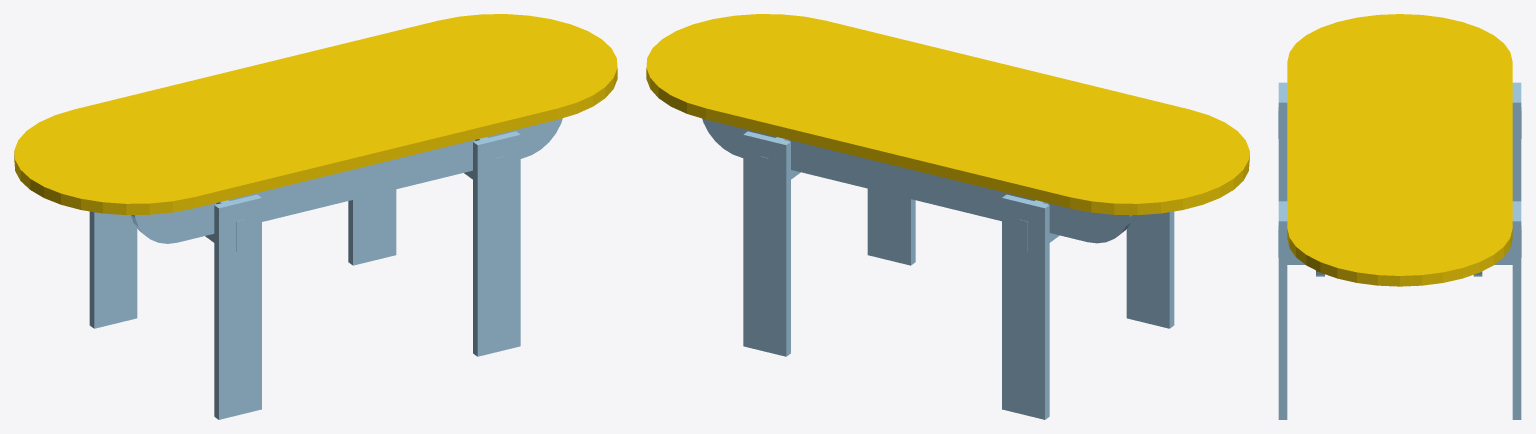
File: alzatin_Coffee-table-pill-design.glb
The picture shows the model from 3 angles, left to right: view 1: azimuth 30°, elevation 25°; view 2: azimuth 150°, elevation 25°; view 3: azimuth 270°, elevation 25°; orthographic projection. The views are drawn at different scales.
Parts seen in each view (by area): view 1: part-0, part-1, part-2, part-12, part-11, part-8, part-10, part-9, part-7, part-6; view 2: part-0, part-1, part-2, part-10, part-9, part-5, part-12, part-11, part-4, part-3; view 3: part-0, part-2, part-1, part-9, part-11, part-10, part-12, part-13.
Boxes of the visible parts, x1,y1,x2,y2 form: part-0: (78, 21, 557, 208); part-1: (14, 102, 253, 215); part-2: (378, 14, 617, 119); part-12: (214, 194, 261, 419); part-11: (473, 131, 520, 356); part-8: (177, 128, 522, 242); part-10: (89, 211, 137, 328); part-9: (348, 189, 396, 265); part-7: (131, 212, 177, 243); part-6: (522, 118, 562, 158); part-0: (706, 21, 1185, 208); part-1: (1010, 102, 1249, 215); part-2: (646, 14, 885, 119); part-10: (1002, 194, 1049, 419); part-9: (743, 131, 790, 356); part-5: (742, 128, 1087, 241); part-12: (1126, 211, 1174, 328); part-11: (867, 188, 915, 265); part-4: (1087, 212, 1133, 243); part-3: (702, 118, 742, 157); part-0: (1287, 62, 1512, 227); part-2: (1287, 181, 1512, 286); part-1: (1287, 14, 1512, 108); part-9: (1512, 201, 1521, 419); part-11: (1278, 201, 1287, 419); part-10: (1512, 82, 1521, 201); part-12: (1278, 82, 1287, 201); part-13: (1287, 242, 1512, 264).
Size of the model in its own units: 53 by 19.88 by 20.83.
